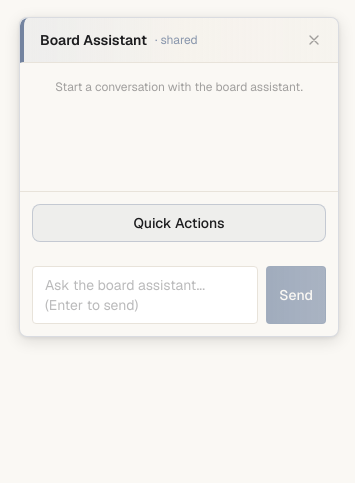
GlobalAgentPanel › shows Arrange in Grid when objects are selected
The width and height of the screenshot is (355, 483).
Click the button with test id "quick-actions-trigger": (179, 223) [32,204,326,242]
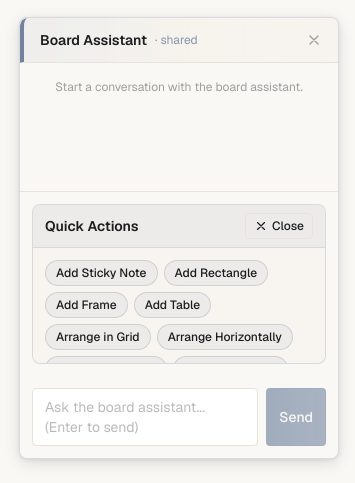
Check: the menu item "Arrange in Grid" is shown, box [45,324,151,350]
Check: the menu item "Arrange Horizontally" is shown, box [157,324,293,350]
